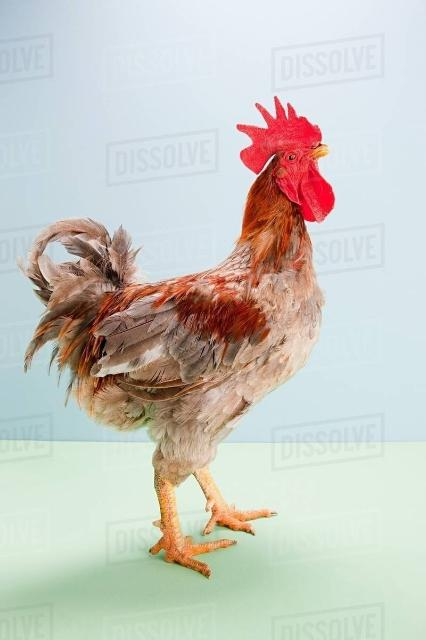Chicken: (17, 92, 334, 581)
